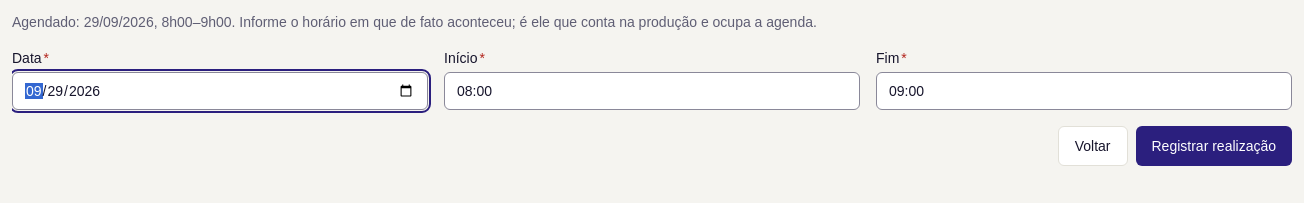
RealizacaoDialog › Fim_antes_do_inicio_e_recusado_sem_chamar_a_api
Replace the text in the field labelled "Fim*" with "07:00" at (1084, 91), box [876,72,1292,110]
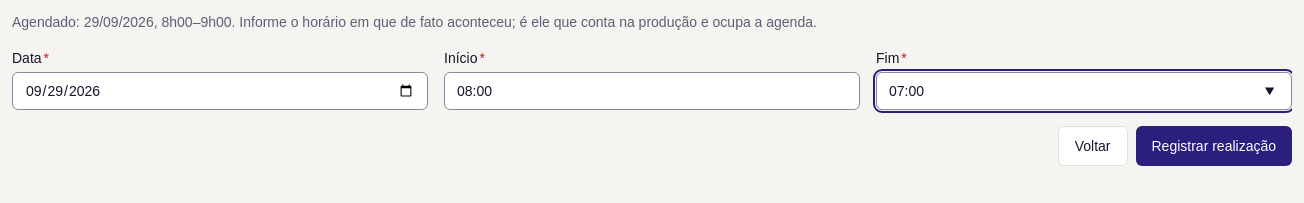
Click the button "Registrar realização" at (1214, 146), box [1136,126,1292,166]
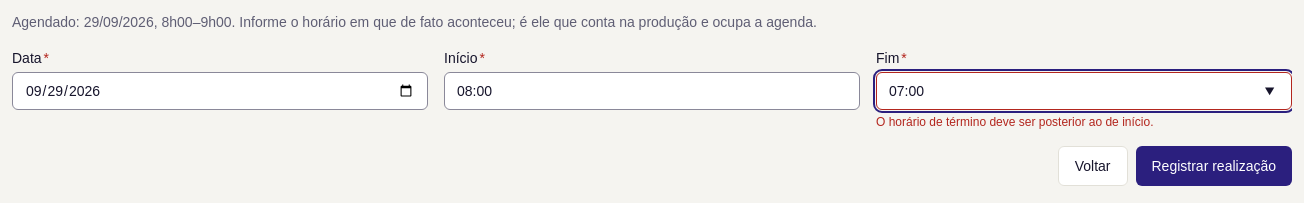
expect the text "O horário de término deve ser posterior ao de início." is shown: met, box [876,115,1154,129]
